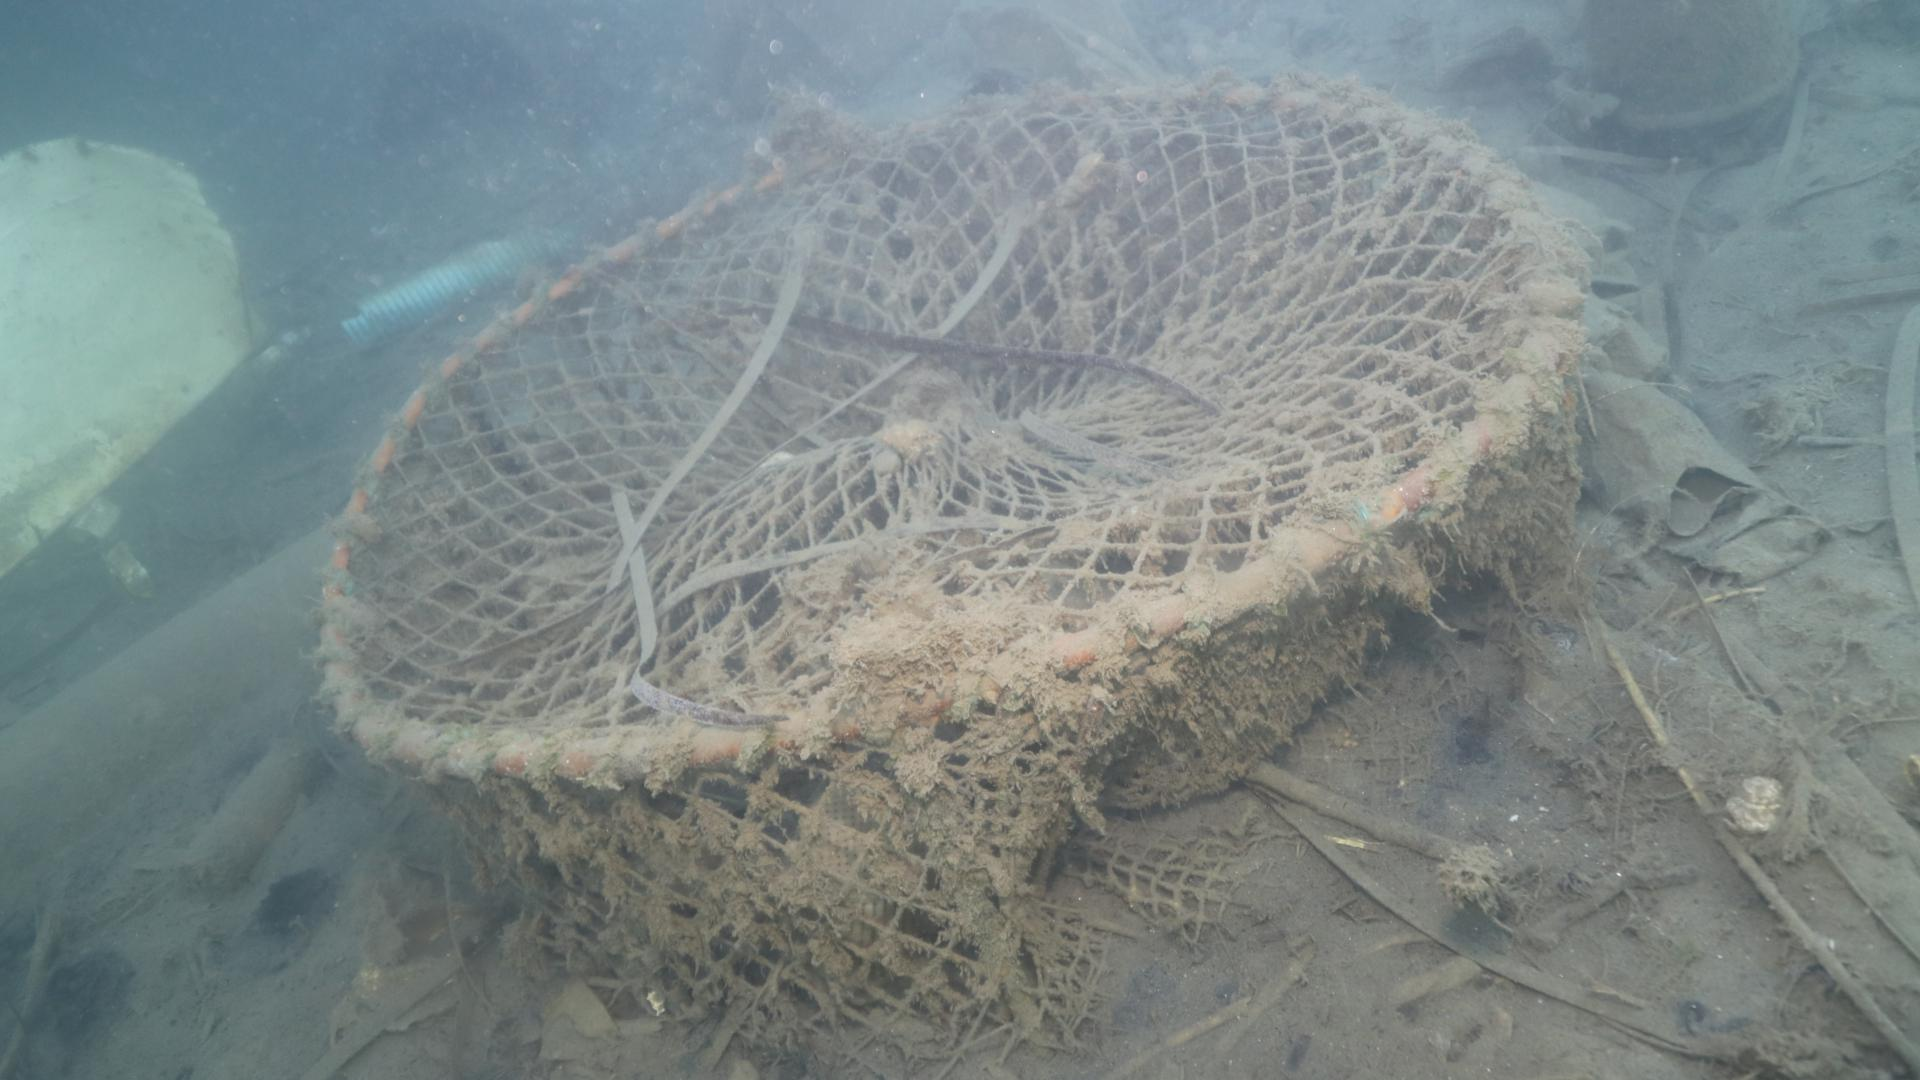circular fish trap: (314, 76, 1585, 1058)
